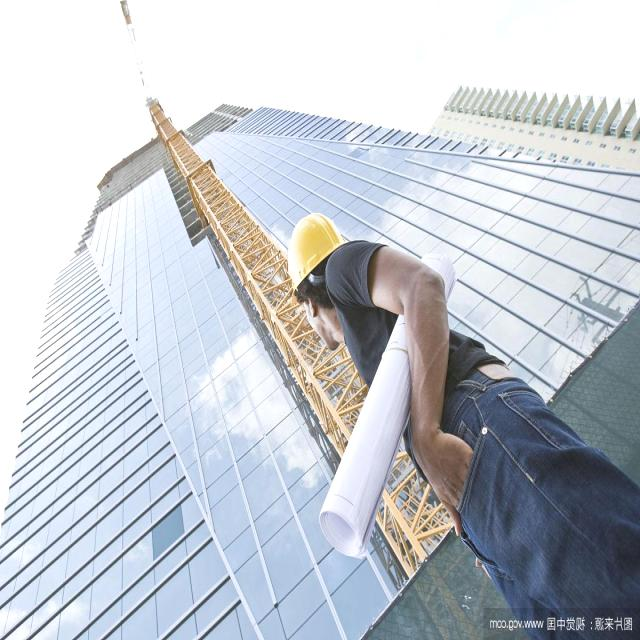head_helmet: (286, 210, 342, 290)
person: (284, 211, 635, 614)
